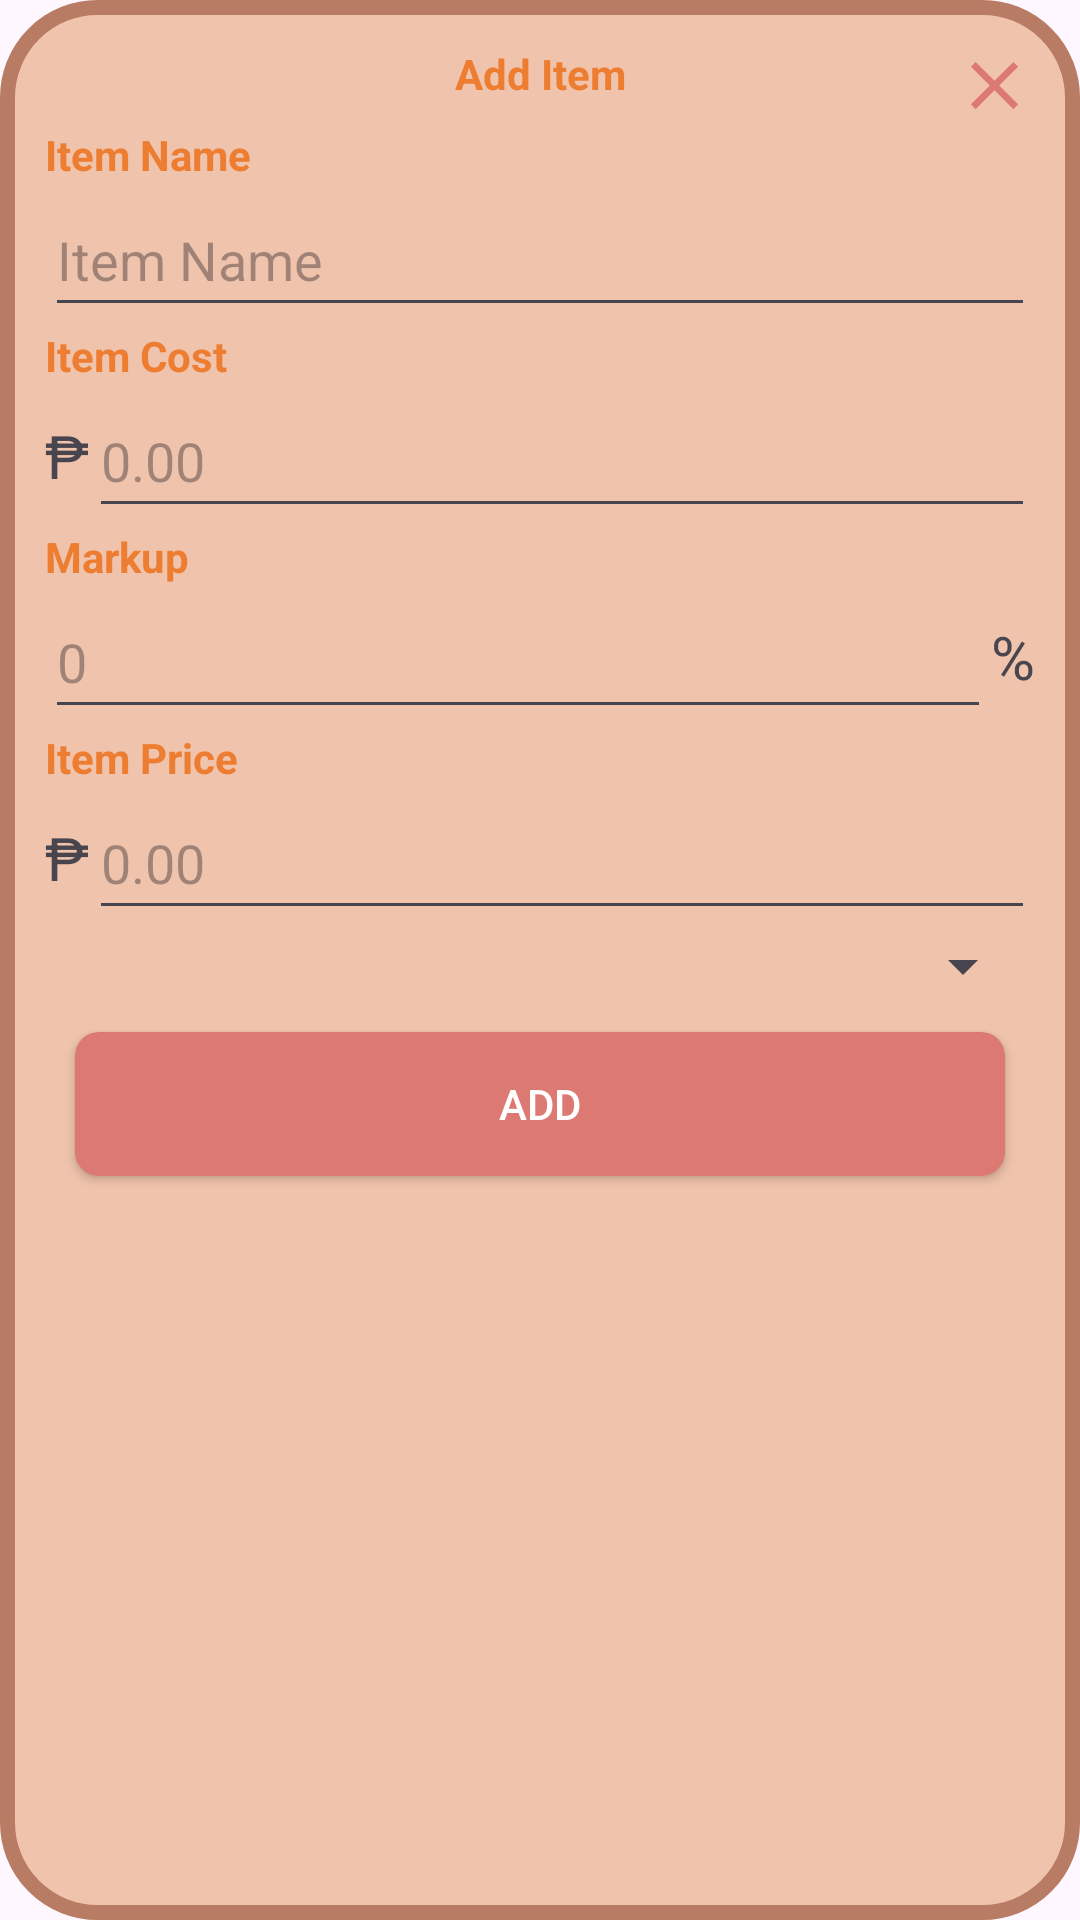

Where icons sit on this 1080px x 1920px app screen, as bbox=[x1, y1, x2, y2]:
close: bbox=[971, 62, 1018, 109]
